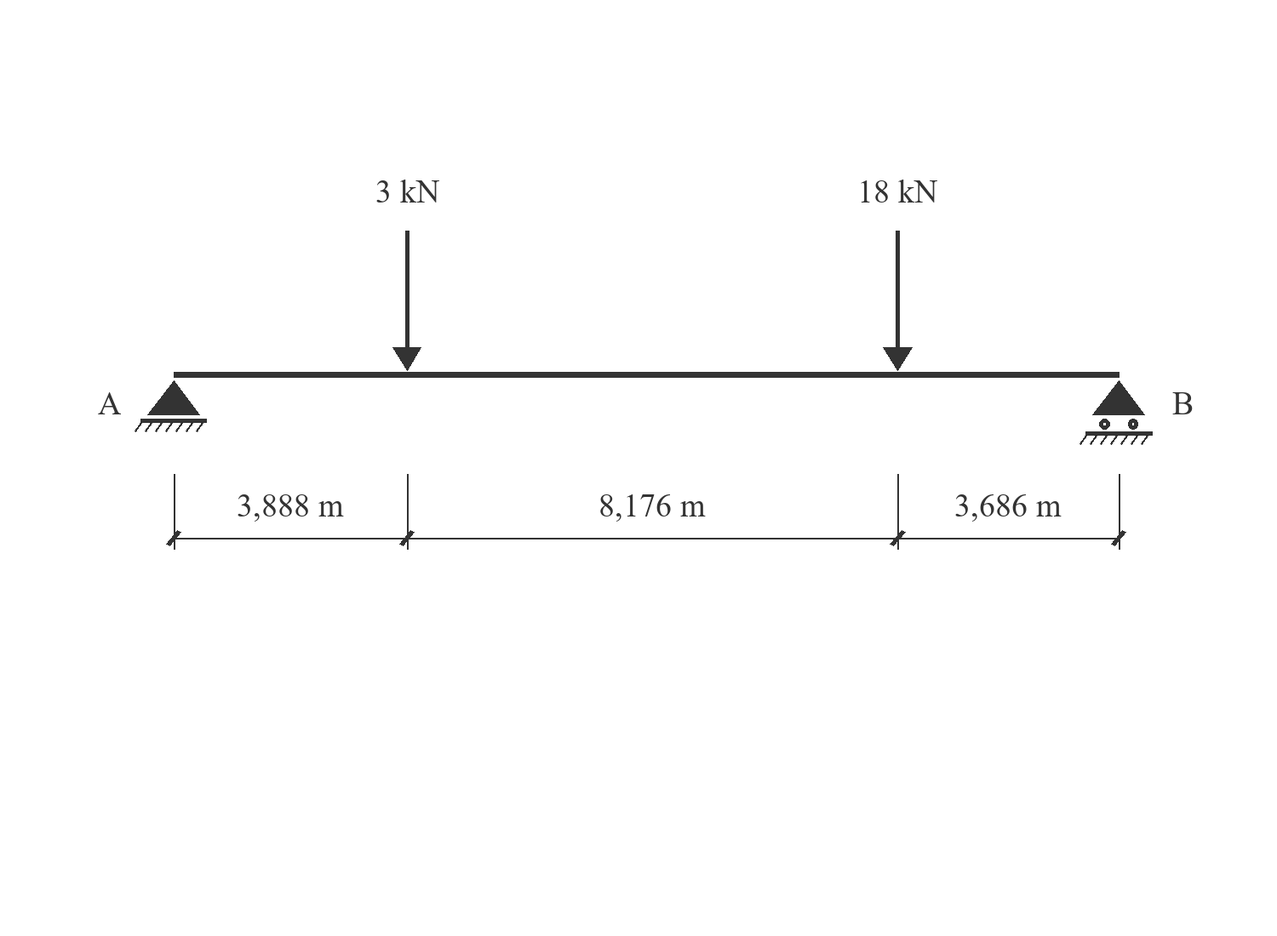pin_support: (135, 380, 207, 432)
point_load: (883, 231, 913, 371), (392, 231, 421, 371)
roller_support: (1079, 380, 1153, 445)
